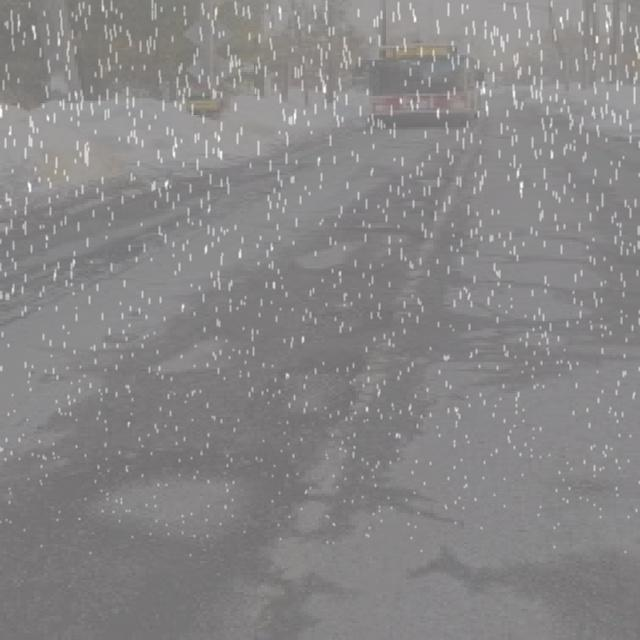Pothole: (447, 218, 616, 353), (105, 432, 266, 567), (133, 313, 260, 384), (282, 232, 377, 269)
